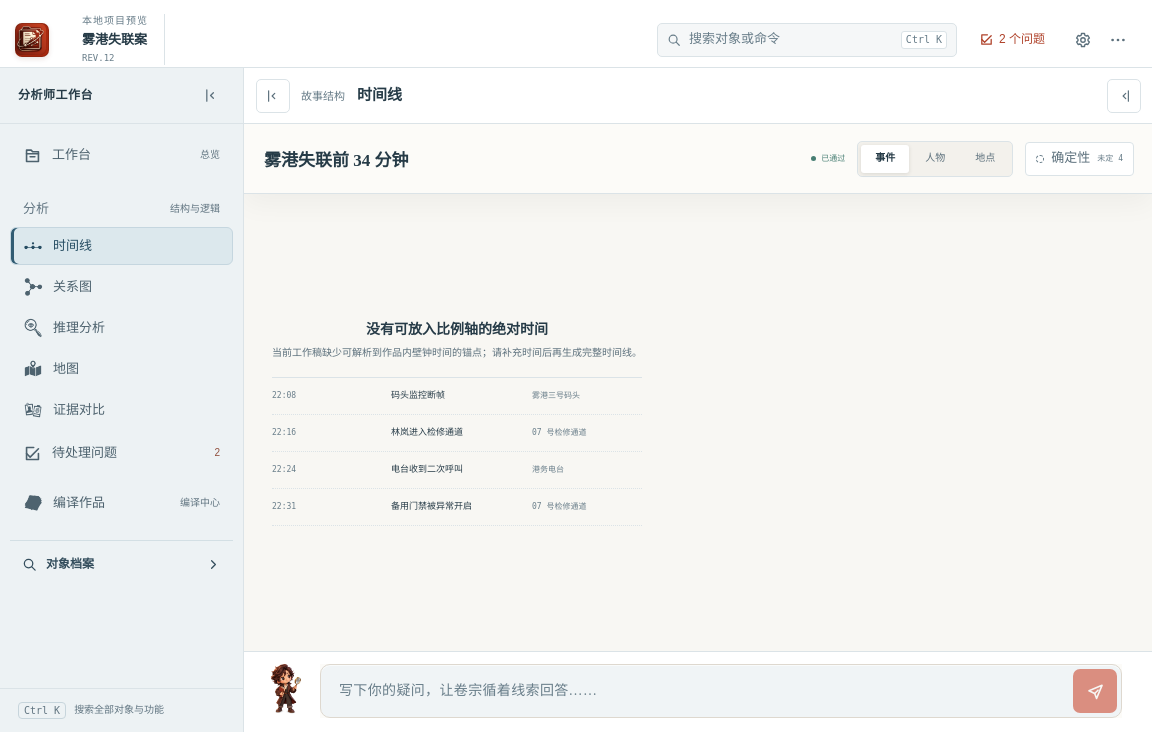
Scenario: analyst workbench › renders the evidence comparison matrix with per-cell assessments
Click the tab "证据对比". click: (122, 410)
box: [10,391,233,429]
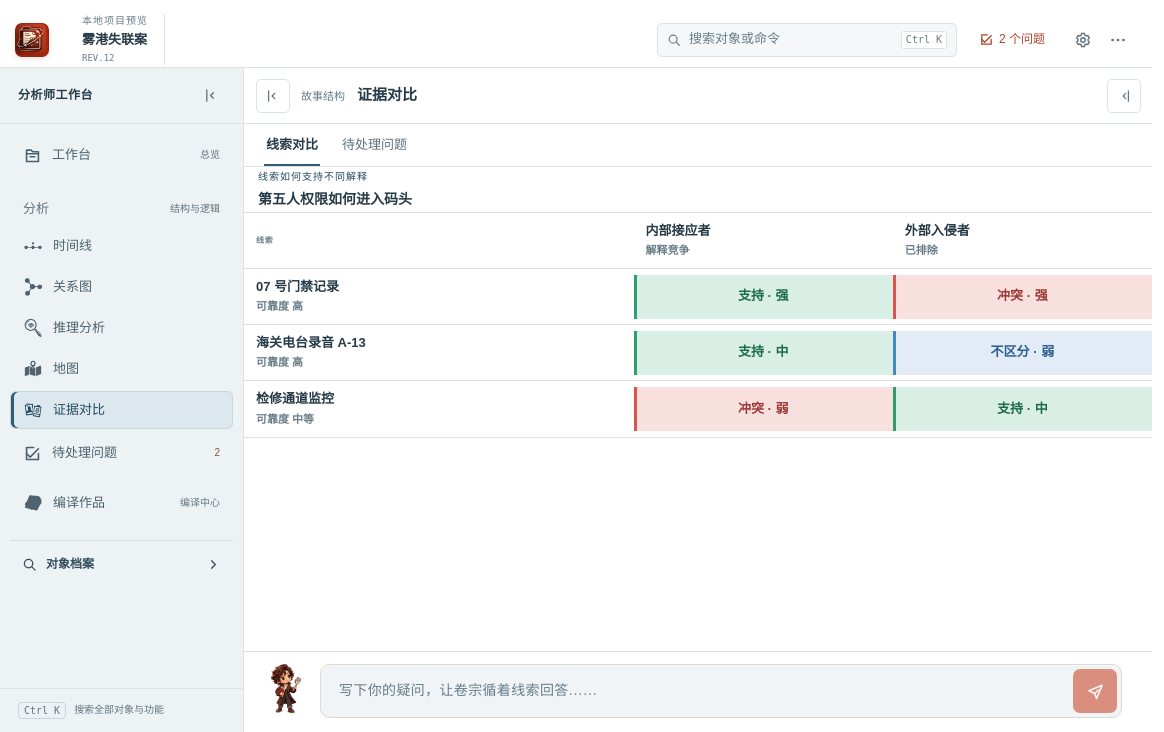
expect the button with aria-label "假设：内部接应者" is shown: met, box [634,213,893,268]
expect the button with aria-label "假设：外部入侵者" is shown: met, box [893,213,1152,268]
expect the button with aria-label "信息：07 号门禁记录" is shown: met, box [244,269,634,324]
Click the button with aria-label "07 号门禁记录 对 内部接应者：支持 · 强". click: (763, 297)
box: [634,275,893,319]
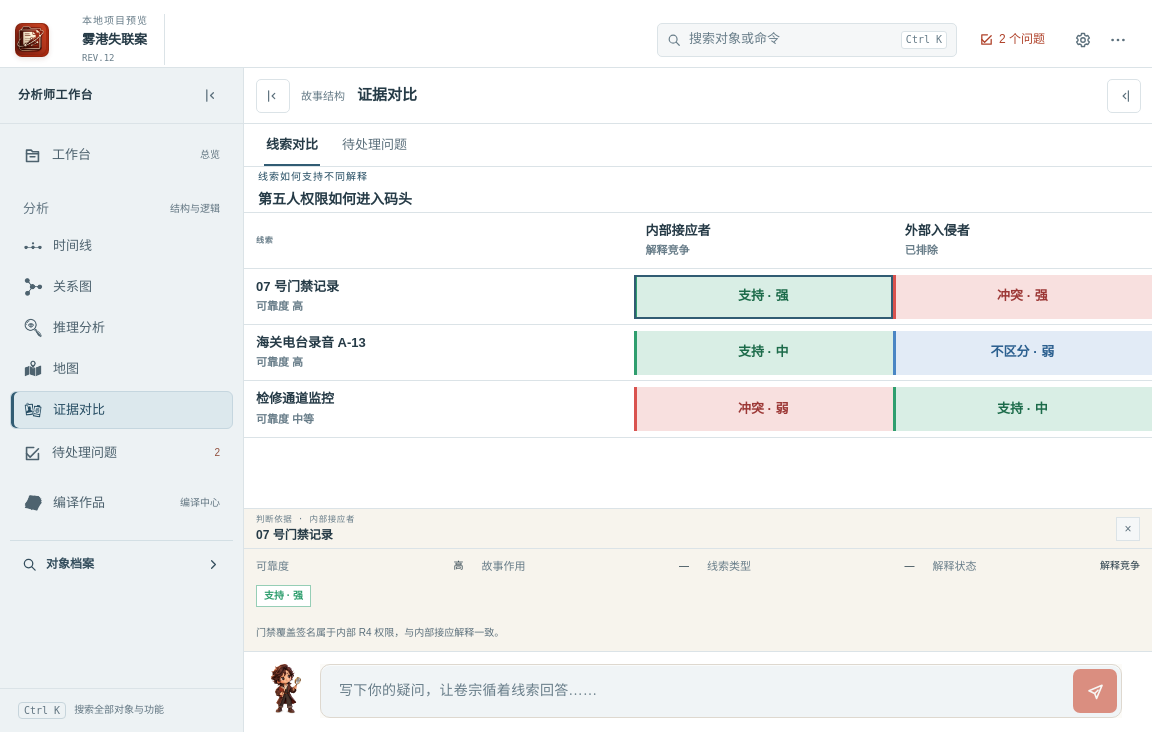
expect the text "门禁覆盖签名属于内部 R4 权限，与内部接应解释一致。" is shown: met, box [256,627,504,638]
expect the text "支持 · 强" is shown: met, box [256,585,311,607]
